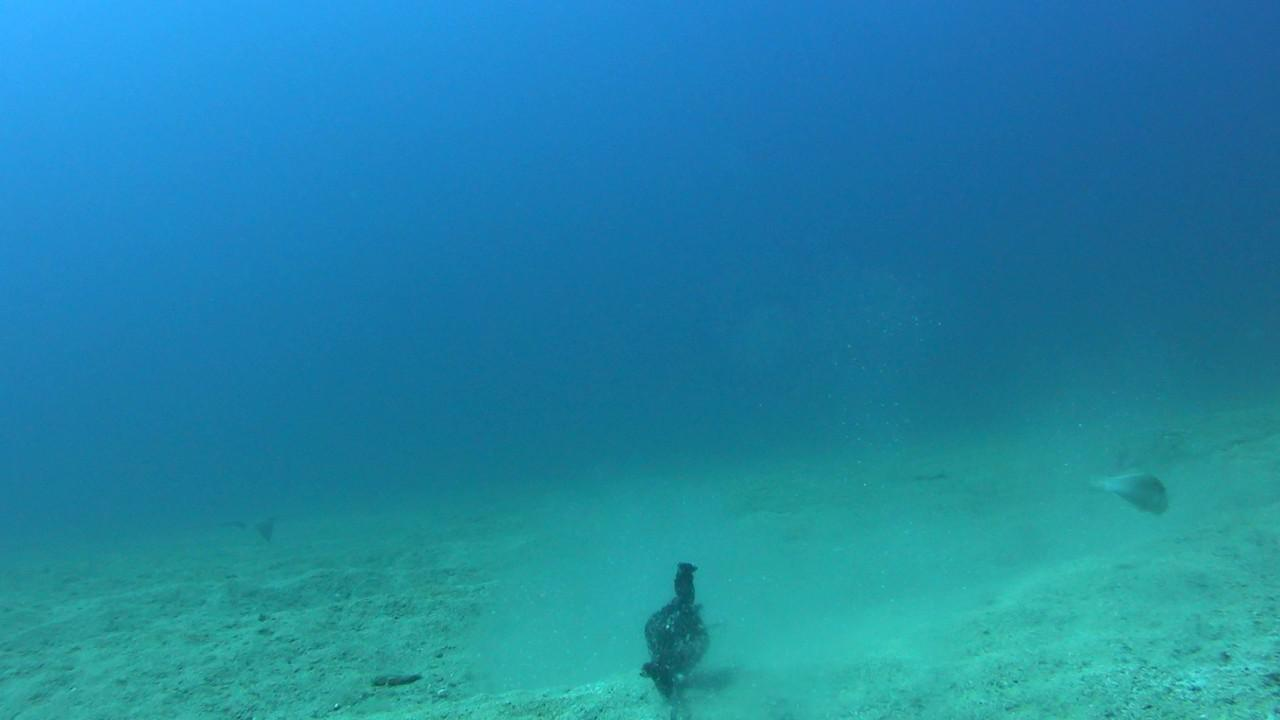myliobatis: (209, 487, 299, 545)
raor: (1094, 470, 1172, 514)
